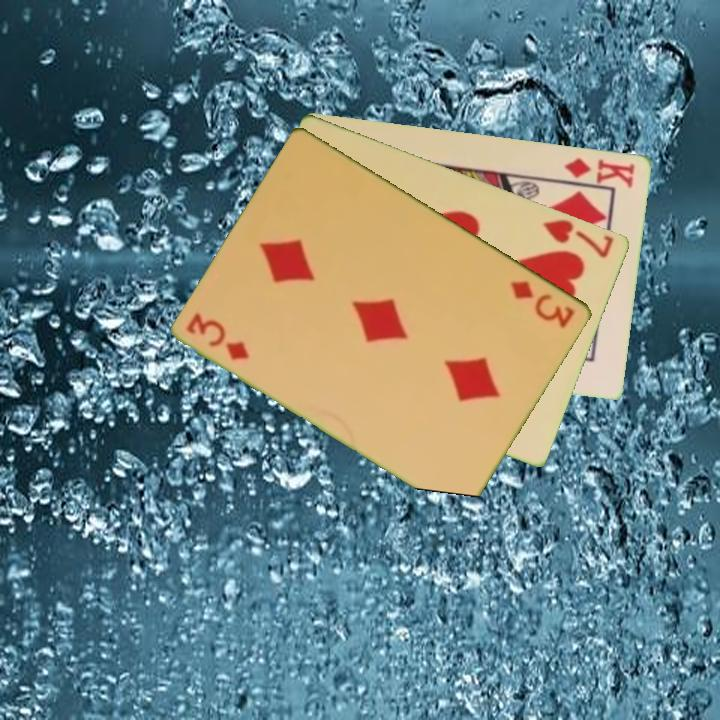3d: (507, 277, 578, 331), (183, 308, 252, 363)
7h: (539, 215, 617, 261)
Kd: (561, 153, 638, 191)
